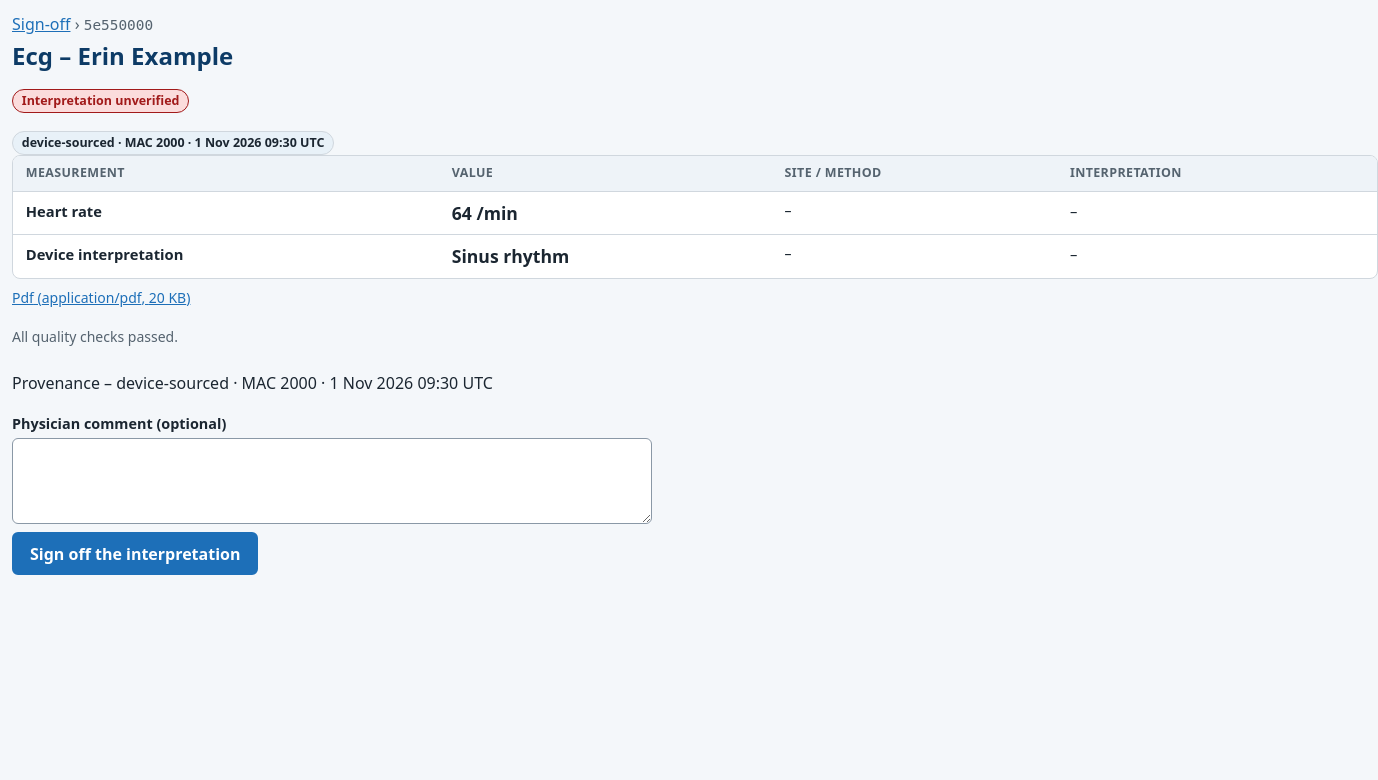
Test: ECG / ABPM sign-off › physician signs off an unverified interpretation; the PDF is linked
Check: the text "Interpretation unverified" is shown, box left=12, top=89, right=189, bottom=113
Check: the text "Sinus rhythm" is shown, box left=439, top=235, right=772, bottom=278
Step 1. Type "Normal ECG." into the text box labelled "Physician comment (optional)" → (332, 481), box left=12, top=438, right=652, bottom=524
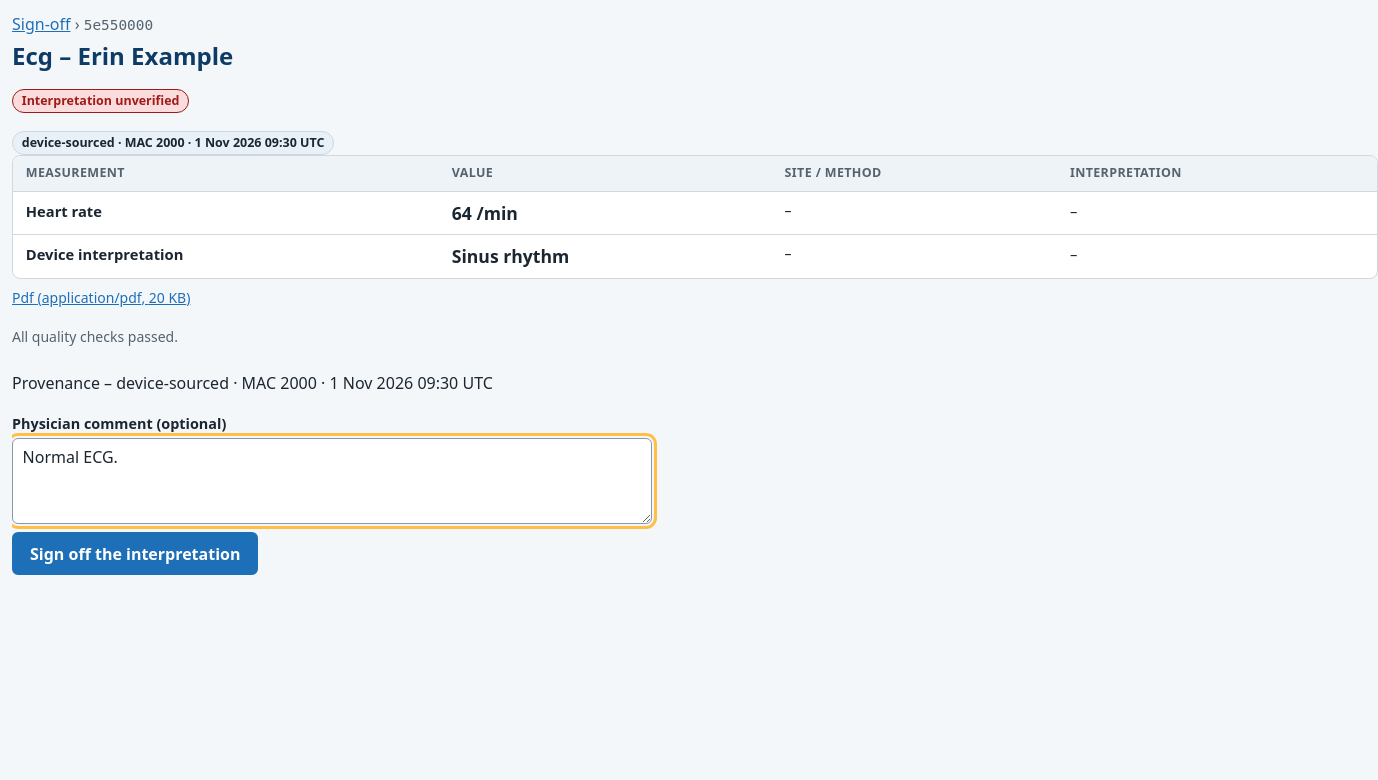
Step 2. Click the button "Sign off the interpretation" → click(135, 554), box left=12, top=532, right=258, bottom=575
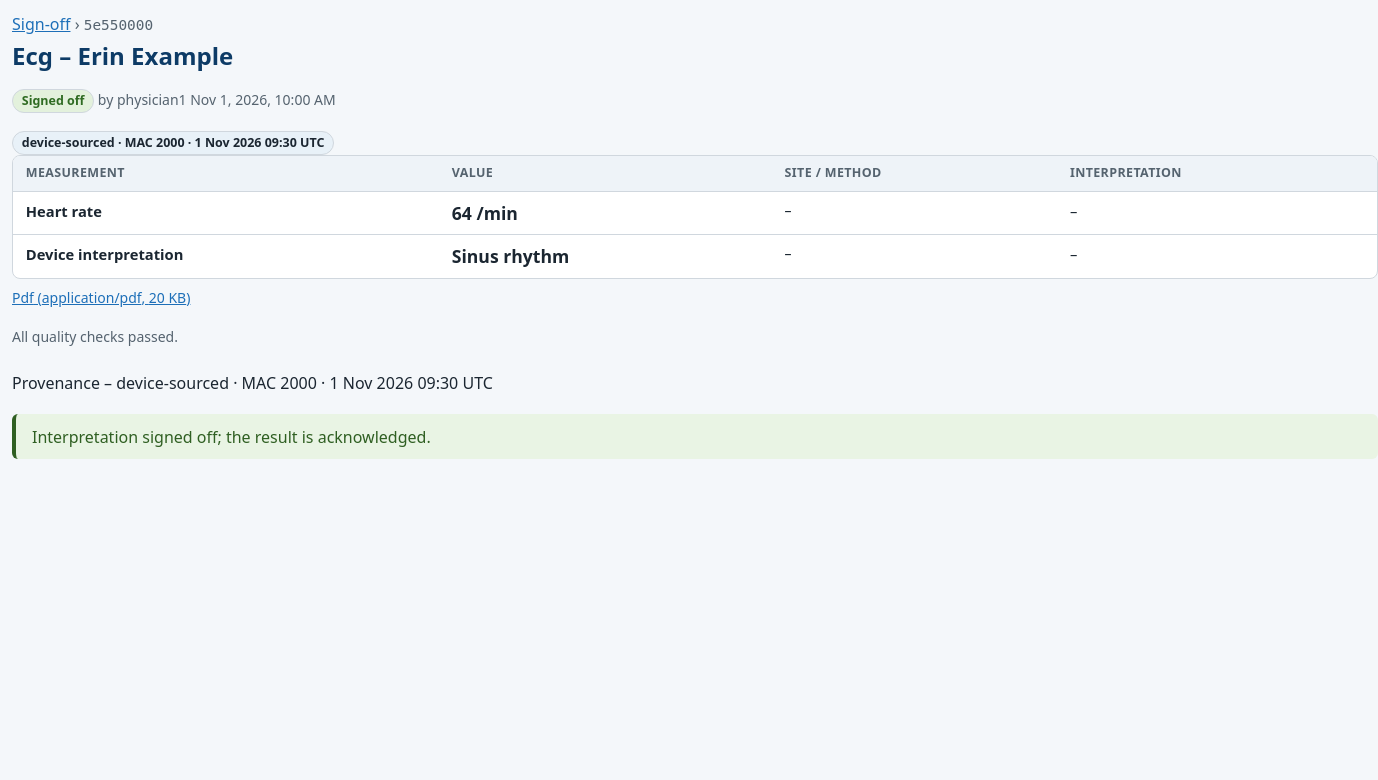
Check: the text "Signed off" is shown, box left=12, top=89, right=94, bottom=113
Check: the text "by physician1 Nov 1, 2026, 10:00 AM" is shown, box left=94, top=90, right=336, bottom=109
